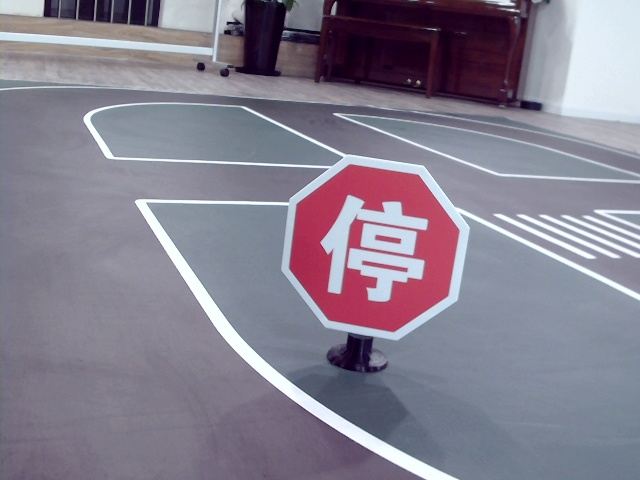stop: (320, 186, 425, 300)
